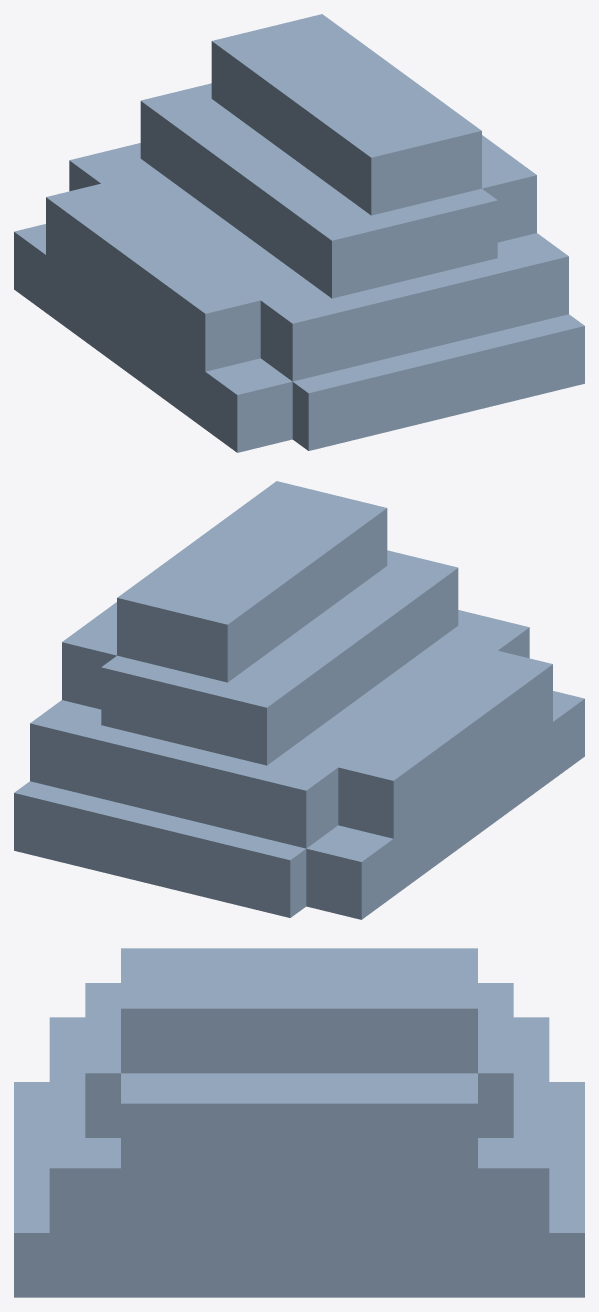
File: stone-01.glb
3 views of the same model, one above another, from view 1: azimuth 30°, elevation 25°; view 2: azimuth 150°, elevation 25°; view 3: azimuth 270°, elevation 25° (orthographic). The views are drawn at different scales.
Visible parts, largest first — view 1: generated(Clone); view 2: generated(Clone); view 3: generated(Clone).
Boxes of the visible parts, x1=… form: generated(Clone): x1=14, y1=14, x2=584, y2=452; generated(Clone): x1=14, y1=481, x2=584, y2=919; generated(Clone): x1=14, y1=948, x2=584, y2=1297.
Bounding box in the file's own units: 6 × 4 × 8.
1 material, 1 textured.
